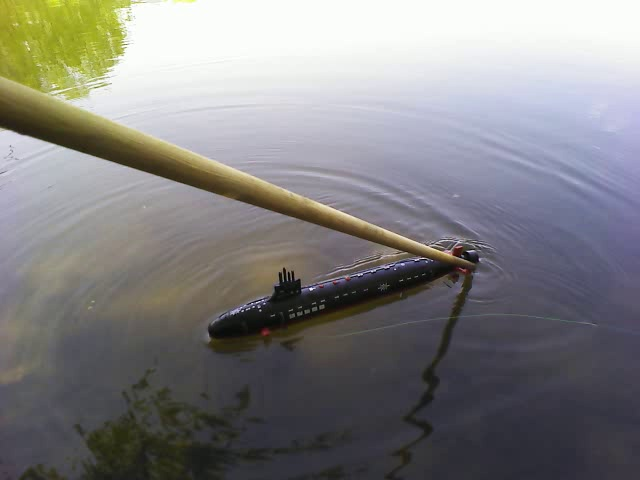submarine: (206, 238, 480, 345)
